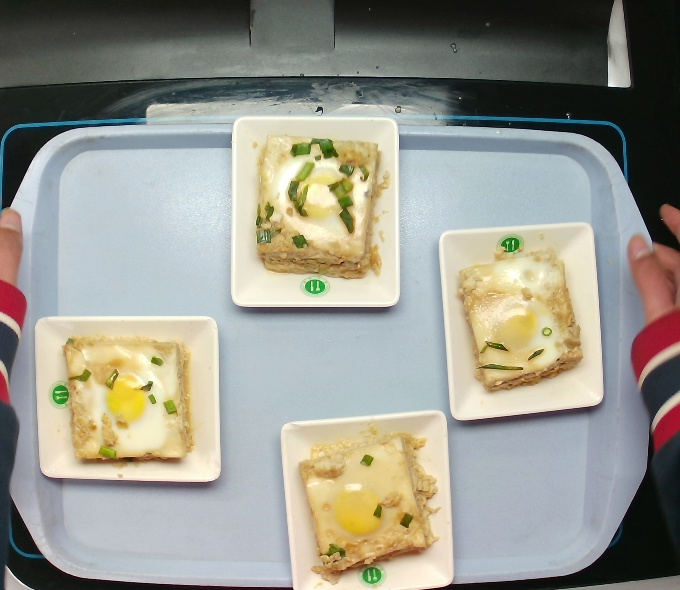wcq-RouMoZhengDan: (298, 418, 447, 589), (240, 132, 400, 286), (41, 322, 201, 472), (452, 243, 584, 402)
